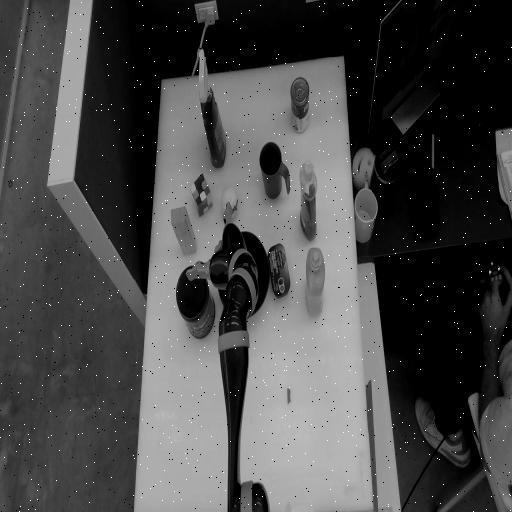bowl: (218, 233, 268, 318)
cleanser: (300, 162, 316, 241)
coffee_can: (176, 267, 214, 338)
jaco: (186, 202, 248, 288)
meat_can: (267, 244, 289, 298)
mug: (259, 143, 289, 199)
mustard_bottle: (305, 249, 324, 317)
rubik: (190, 185, 212, 207)
soup_can: (290, 78, 308, 133)
tennis_ball: (221, 195, 238, 212)
windex: (198, 49, 225, 167)
wooden_block: (170, 219, 195, 244)
workspace: (135, 57, 372, 509)
